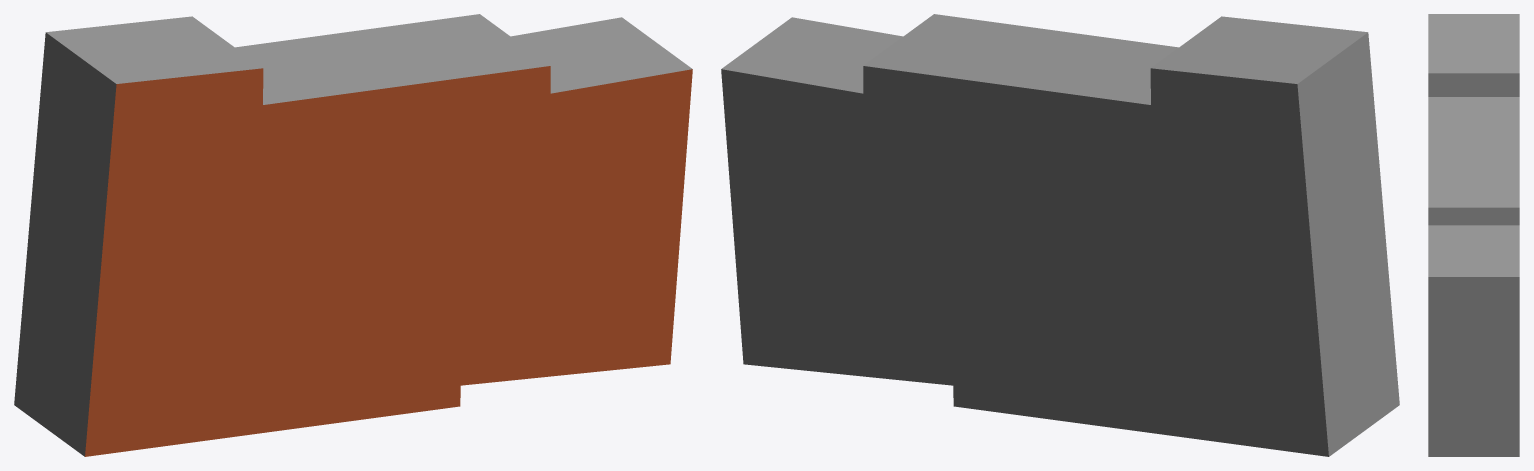
Rendered from construction_1792_assumed_A_Casa_h6m.obj.
3 renders of one model, left to right at view 1: azimuth 30°, elevation 25°; view 2: azimuth 150°, elevation 25°; view 3: azimuth 270°, elevation 25°, orthographic. The views are drawn at different scales.
Visible parts, largest first — view 1: construction_1792_assumed_A_Casa; view 2: construction_1792_assumed_A_Casa; view 3: construction_1792_assumed_A_Casa.
Part boxes in pixels (x1,y1,x2,y2): construction_1792_assumed_A_Casa: (14, 14, 692, 456); construction_1792_assumed_A_Casa: (721, 14, 1399, 456); construction_1792_assumed_A_Casa: (1428, 14, 1519, 456).
Size of the model in its own units: 29.71 by 19.4 by 6.
